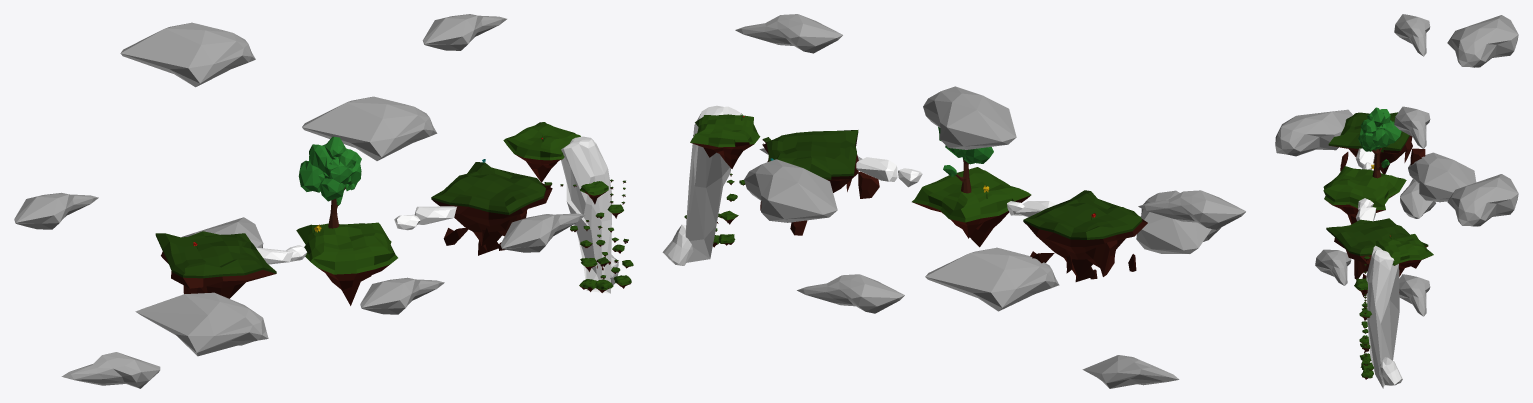
File: frog_map_7stage_5.FBX
The picture shows the model from 3 angles, left to right: view 1: azimuth 30°, elevation 25°; view 2: azimuth 150°, elevation 25°; view 3: azimuth 270°, elevation 25°; orthographic projection. The views are drawn at different scales.
Visible parts, largest first — view 1: 7stage_ground01, 7stage_ground004, 7stage_backgroundOBJ041, 7stage_backgroundOBJ044, 7stage_backgroundOBJ28, 7stage_ground02, waterwall05, _4_tree001, 7stage_ground00, 7stage_backgroundOBJ030, 7stage_backgroundOBJ045, 7stage_backgroundOBJ040 (+4 smaller); view 2: 7stage_ground004, 7stage_backgroundOBJ029, 7stage_ground02, 7stage_ground01, 7stage_backgroundOBJ28, 7stage_backgroundOBJ041, waterwall05, 7stage_backgroundOBJ044, 7stage_ground00, 7stage_backgroundOBJ031, 7stage_backgroundOBJ040, 7stage_backgroundOBJ043 (+4 smaller); view 3: waterwall05, 7stage_ground02, 7stage_backgroundOBJ041, 7stage_backgroundOBJ28, 7stage_backgroundOBJ044, 7stage_backgroundOBJ029, 7stage_ground01, 7stage_ground004, _4_tree001, 7stage_ground00, 7stage_backgroundOBJ043, 7stage_backgroundOBJ040 (+6 smaller).
Part boxes in pixels (<box>): 7stage_ground01: <box>431,162,552,255</box>; 7stage_ground004: <box>155,231,276,298</box>; 7stage_backgroundOBJ041: <box>120,22,255,87</box>; 7stage_backgroundOBJ044: <box>135,292,268,356</box>; 7stage_backgroundOBJ28: <box>302,96,437,160</box>; 7stage_ground02: <box>296,222,397,305</box>; waterwall05: <box>561,136,611,293</box>; _4_tree001: <box>298,136,361,205</box>; 7stage_ground00: <box>503,122,580,182</box>; 7stage_backgroundOBJ030: <box>61,352,160,388</box>; 7stage_backgroundOBJ045: <box>500,213,584,252</box>; 7stage_backgroundOBJ040: <box>14,192,98,229</box>; 7stage_ground004: <box>1023,190,1147,281</box>; 7stage_backgroundOBJ029: <box>925,247,1059,311</box>; 7stage_ground02: <box>912,167,1031,247</box>; 7stage_ground01: <box>760,130,879,235</box>; 7stage_backgroundOBJ28: <box>744,159,837,222</box>; 7stage_backgroundOBJ041: <box>923,86,1016,149</box>; waterwall05: <box>685,105,740,262</box>; 7stage_backgroundOBJ044: <box>1136,190,1220,253</box>; 7stage_ground00: <box>690,114,760,168</box>; 7stage_backgroundOBJ031: <box>797,274,904,313</box>; 7stage_backgroundOBJ040: <box>1138,190,1245,229</box>; 7stage_backgroundOBJ043: <box>735,14,842,53</box>; waterwall05: <box>1366,245,1399,388</box>; 7stage_ground02: <box>1323,166,1406,224</box>; 7stage_backgroundOBJ041: <box>1447,15,1518,67</box>; 7stage_backgroundOBJ28: <box>1447,174,1518,226</box>; 7stage_backgroundOBJ044: <box>1275,109,1352,156</box>; 7stage_backgroundOBJ029: <box>1408,152,1476,202</box>; 7stage_ground01: <box>1326,218,1428,292</box>; 7stage_ground004: <box>1328,112,1425,174</box>; _4_tree001: <box>1358,107,1401,168</box>; 7stage_ground00: <box>1375,234,1433,276</box>; 7stage_backgroundOBJ043: <box>1394,106,1430,148</box>; 7stage_backgroundOBJ040: <box>1394,14,1430,56</box>.
Size of the model in its own units: 5291 by 2551 by 2429.
